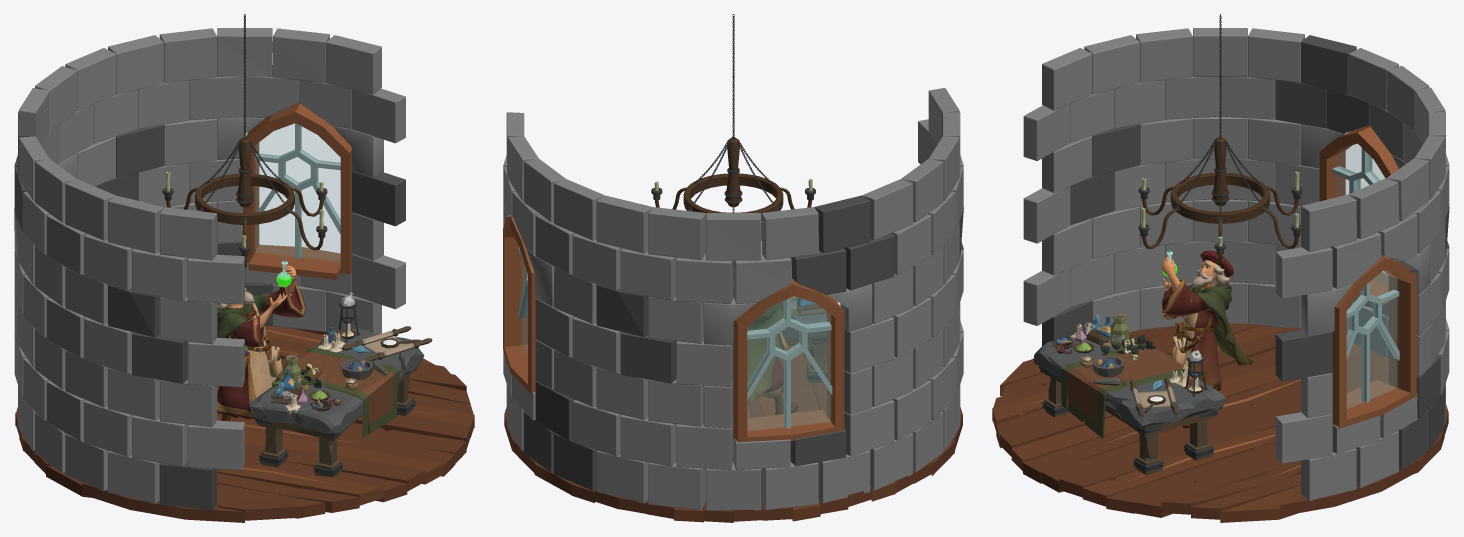
Rendered from alchemyDiorama.glb.
3 renders of one model, left to right at view 1: azimuth 30°, elevation 25°; view 2: azimuth 150°, elevation 25°; view 3: azimuth 270°, elevation 25°, orthographic.
Parts seen in each view (by area): view 1: Object015_brick_01_0, Cylinder071_Wood_01_0, SM_Prop_Workbench_Alchemy_01_Preset, Object015_brick_02_0, Box242_windows_glas_0, Object017_Material #83_0, tripo_node_8fbdf4b8, Cylinder071_wood_02_0, Object016_brick_01_0, Object017_window_0, Tube003_steel_05_0, Cylinder147_steel_05_0 (+3 smaller); view 2: Object015_brick_01_0, Object015_brick_02_0, Object017_Material #83_0, Box243_windows_glas_0, Cylinder071_Wood_01_0, Object016_brick_01_0, Object017_window_0, tripo_node_8fbdf4b8, SM_Prop_Workbench_Alchemy_01_Preset, Cylinder071_wood_02_0, Tube003_steel_05_0, Cylinder147_steel_05_0; view 3: Object015_brick_01_0, Cylinder071_Wood_01_0, Object015_brick_02_0, SM_Prop_Workbench_Alchemy_01_Preset, Object017_Material #83_0, Cylinder071_wood_02_0, tripo_node_8fbdf4b8, Box242_windows_glas_0, Object016_brick_01_0, Object017_window_0, Tube003_steel_05_0, Box243_windows_glas_0 (+4 smaller).
Boxes of the visible parts, x1,y1,x2,y2 form: Object015_brick_01_0: (14, 28, 405, 503); Cylinder071_Wood_01_0: (15, 328, 474, 522); SM_Prop_Workbench_Alchemy_01_Preset: (249, 292, 432, 477); Object015_brick_02_0: (14, 112, 405, 510); Box242_windows_glas_0: (255, 124, 340, 261); Object017_Material #83_0: (243, 102, 351, 279); tripo_node_8fbdf4b8: (217, 257, 305, 421); Cylinder071_wood_02_0: (19, 325, 474, 505); Object016_brick_01_0: (14, 117, 383, 260); Object017_window_0: (254, 123, 340, 258); Tube003_steel_05_0: (195, 173, 294, 224); Cylinder147_steel_05_0: (237, 138, 252, 207); Object015_brick_01_0: (503, 88, 963, 510); Object015_brick_02_0: (523, 195, 963, 490); Object017_Material #83_0: (503, 216, 844, 442); Box243_windows_glas_0: (747, 296, 830, 430); Cylinder071_Wood_01_0: (504, 343, 962, 522); Object016_brick_01_0: (503, 208, 872, 345); Object017_window_0: (518, 247, 832, 428); tripo_node_8fbdf4b8: (733, 268, 798, 414); SM_Prop_Workbench_Alchemy_01_Preset: (779, 296, 826, 383); Cylinder071_wood_02_0: (534, 393, 895, 522); Tube003_steel_05_0: (683, 173, 783, 220); Cylinder147_steel_05_0: (726, 138, 740, 207); Object015_brick_01_0: (1023, 28, 1449, 500); Cylinder071_Wood_01_0: (992, 323, 1448, 519); Object015_brick_02_0: (1042, 35, 1449, 470); SM_Prop_Workbench_Alchemy_01_Preset: (1034, 313, 1225, 475); Object017_Material #83_0: (1319, 125, 1416, 428); Cylinder071_wood_02_0: (992, 325, 1440, 522); tripo_node_8fbdf4b8: (1161, 246, 1253, 428); Box242_windows_glas_0: (1347, 270, 1397, 408); Object016_brick_01_0: (1301, 124, 1430, 335); Object017_window_0: (1332, 148, 1399, 402); Tube003_steel_05_0: (1170, 172, 1269, 223); Box243_windows_glas_0: (1336, 144, 1387, 285).
Size of the model in its own units: 5.21 by 5.2 by 5.21.
Materials: 19 (3 with a texture image).
